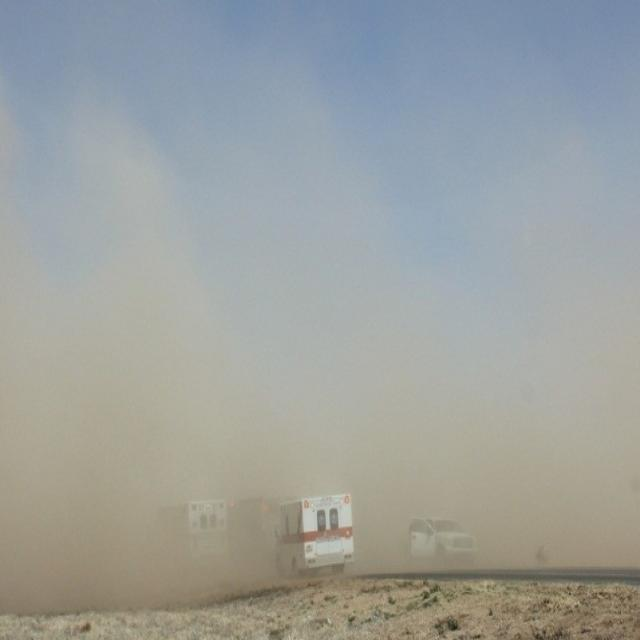car: (269, 495, 355, 579), (149, 499, 227, 575), (402, 508, 478, 566)
